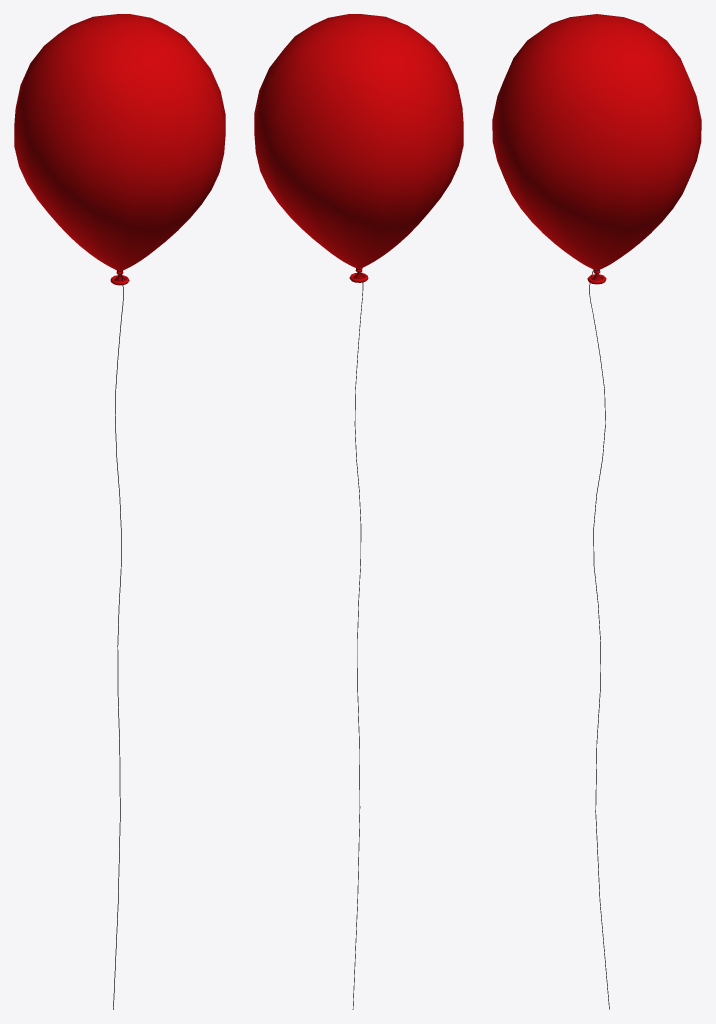
File: baloon_small.obj
3 renders of one model, left to right at view 1: azimuth 30°, elevation 25°; view 2: azimuth 150°, elevation 25°; view 3: azimuth 270°, elevation 25°, orthographic.
Parts seen in each view (by area): view 1: Cube, NurbsPath; view 2: Cube, NurbsPath; view 3: Cube, NurbsPath.
Boxes of the visible parts, x1,y1,x2,y2 form: Cube: (14,14,225,271); NurbsPath: (113,270,123,1009); Cube: (254,14,463,268); NurbsPath: (352,268,363,1009); Cube: (492,14,701,270); NurbsPath: (589,269,609,1009).
Size of the model in its own units: 3.2 by 16.66 by 3.2.
